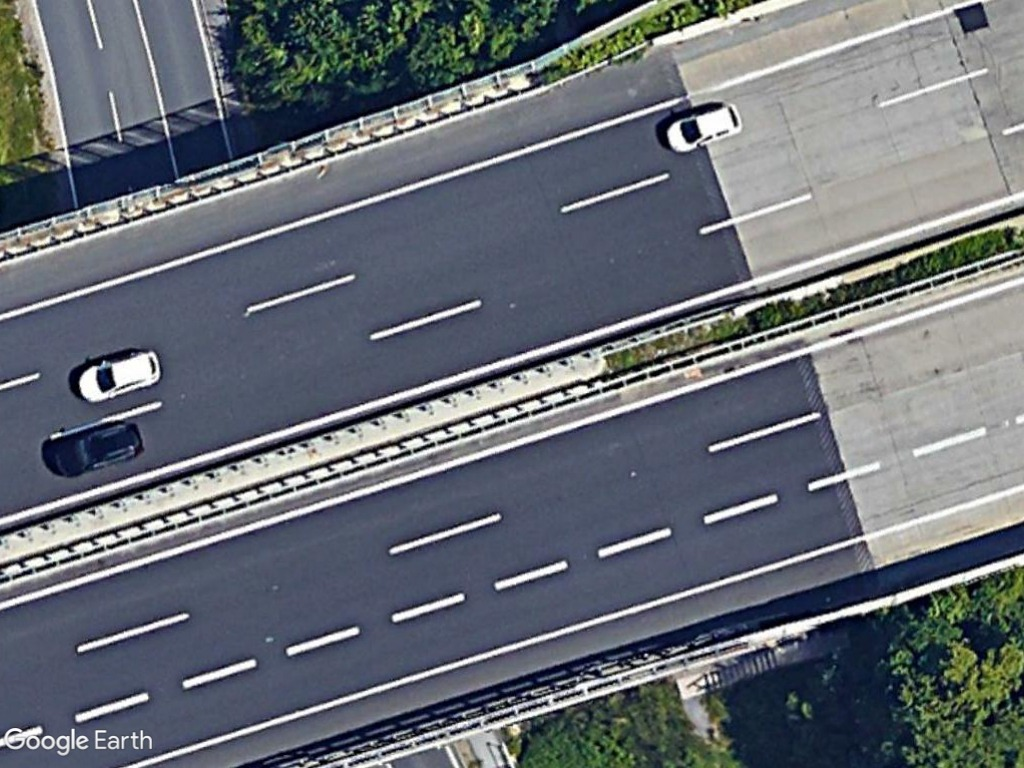car: (43, 414, 148, 480), (71, 340, 169, 408), (660, 97, 752, 157)
